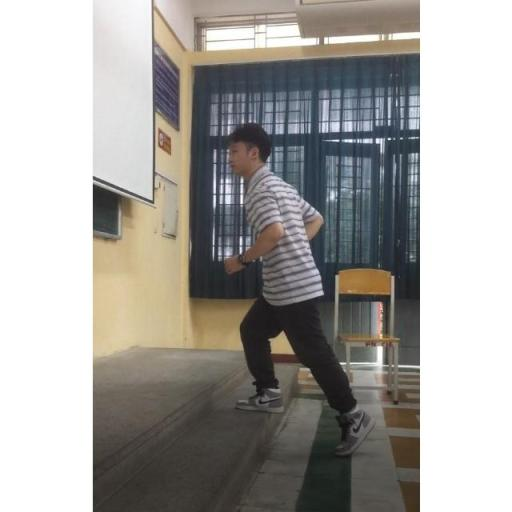Running: (216, 118, 382, 462)
